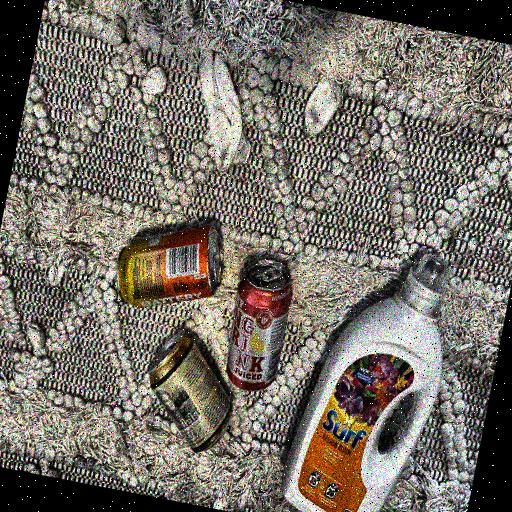koff: (217, 253, 304, 403)
sandels: (139, 328, 242, 458)
